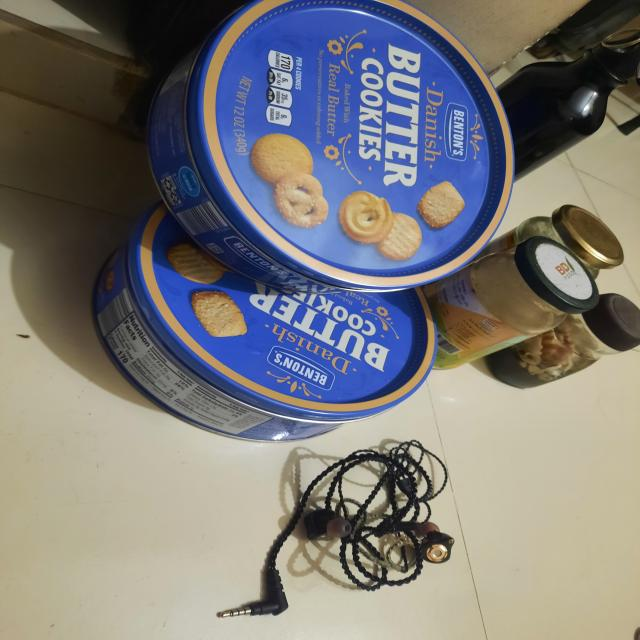Cable: (203, 445, 514, 640)
E-waste: (86, 0, 496, 433)
